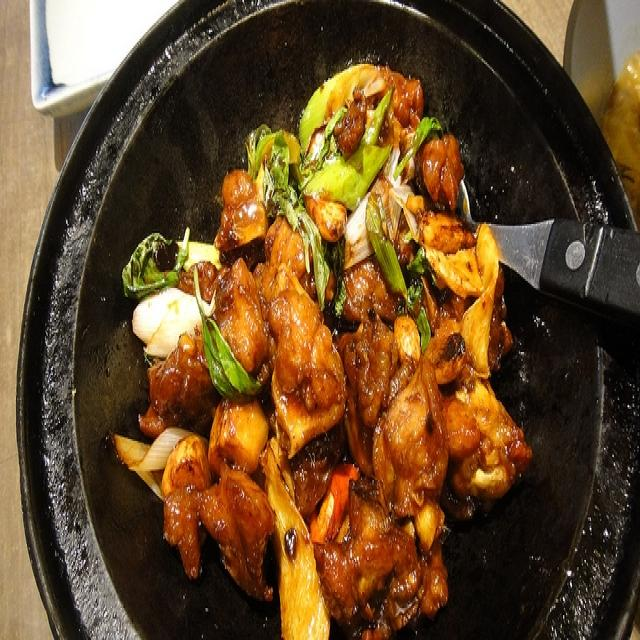鸡肉料理 含炸鸡: (88, 48, 576, 620)
